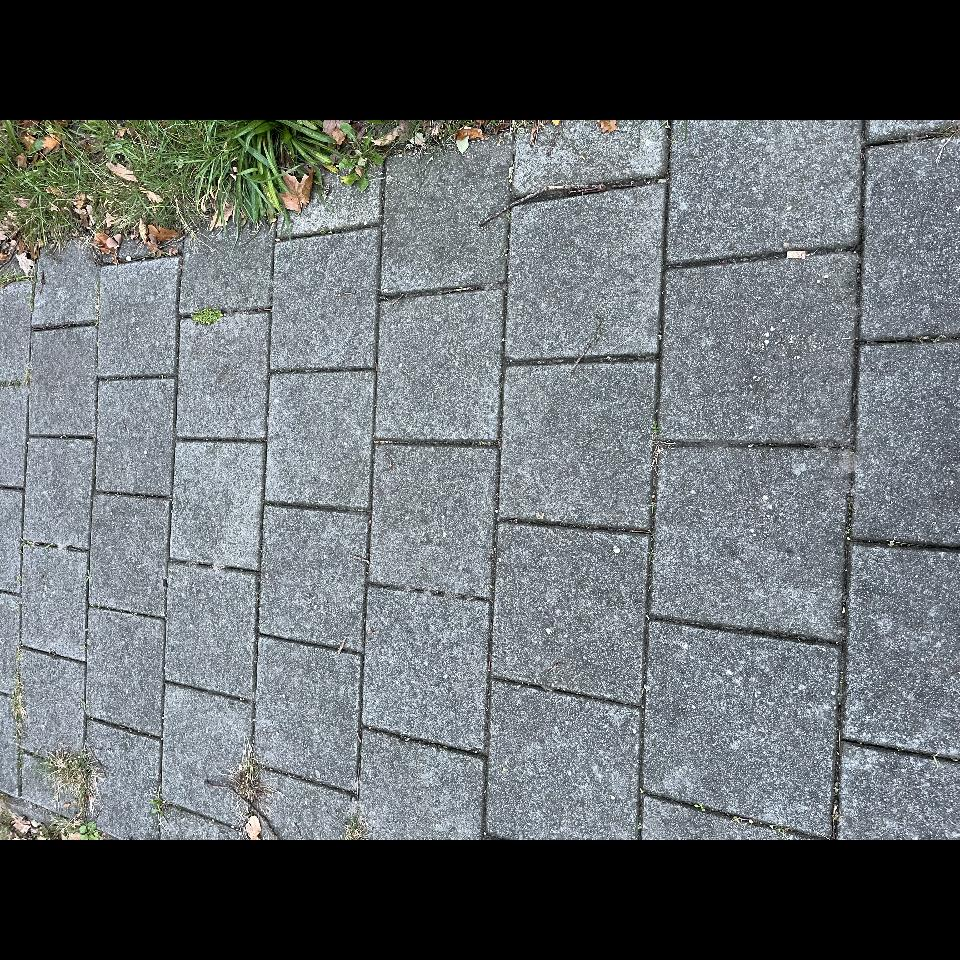weed: (188, 857, 205, 889)
